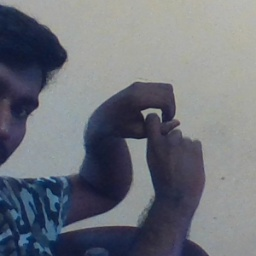Q: (94, 75, 210, 185)
